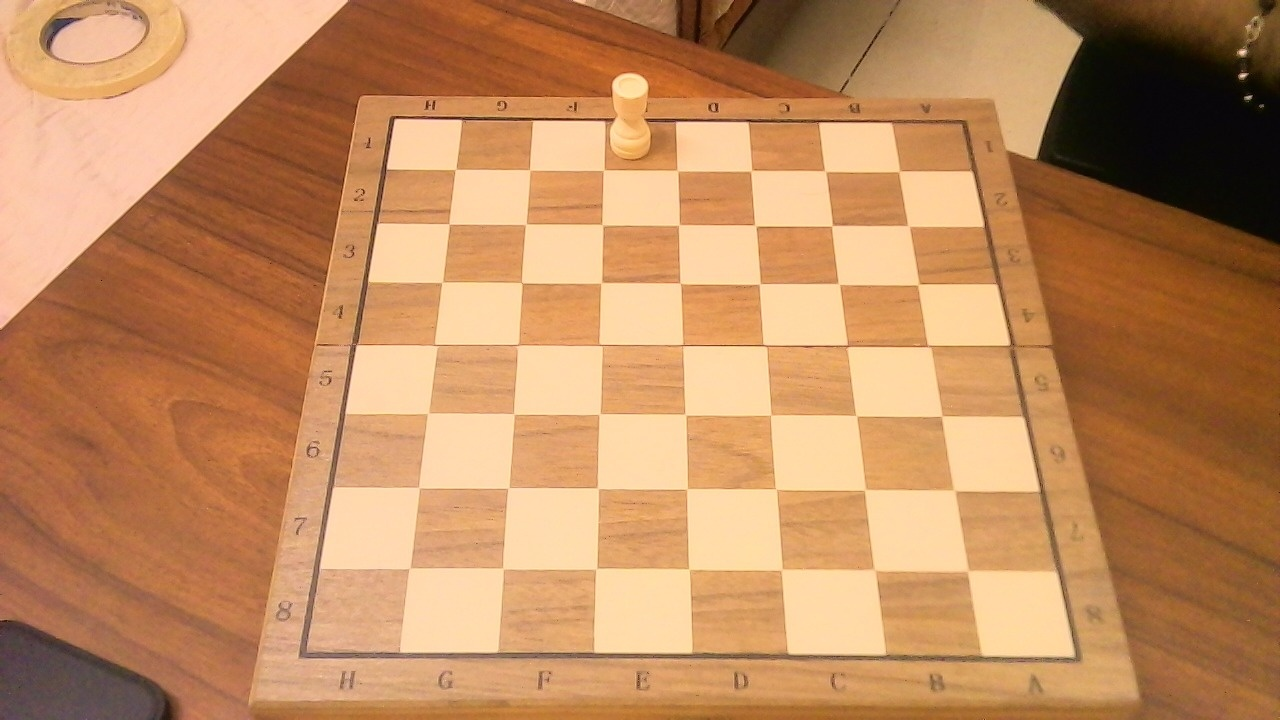R: (604, 64, 658, 164)
